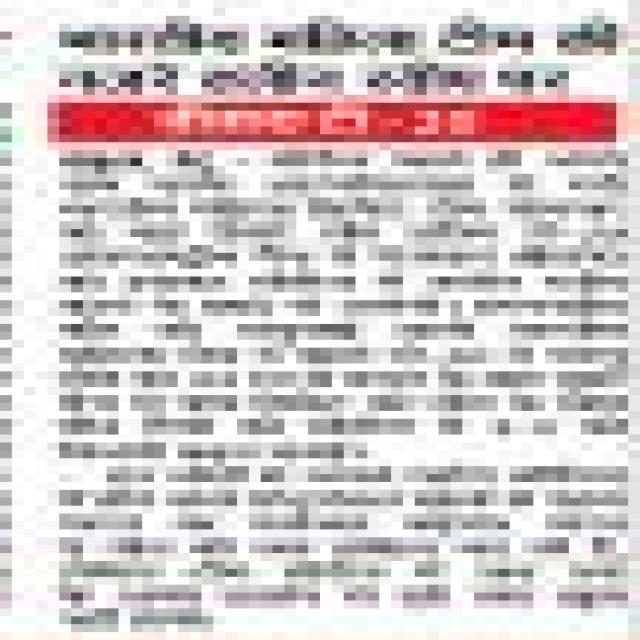paper: (12, 8, 640, 640)
